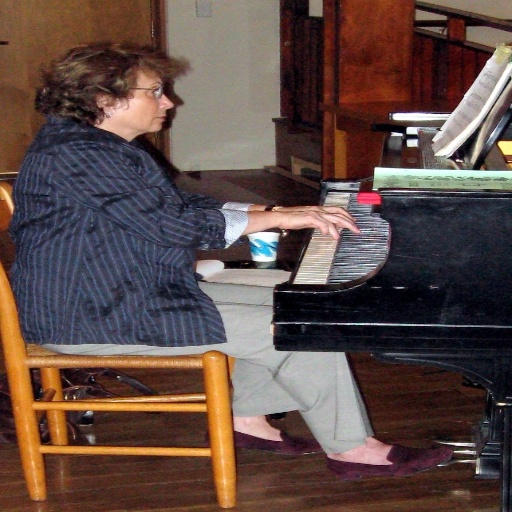hand: (231, 198, 371, 242), (280, 203, 358, 221)
